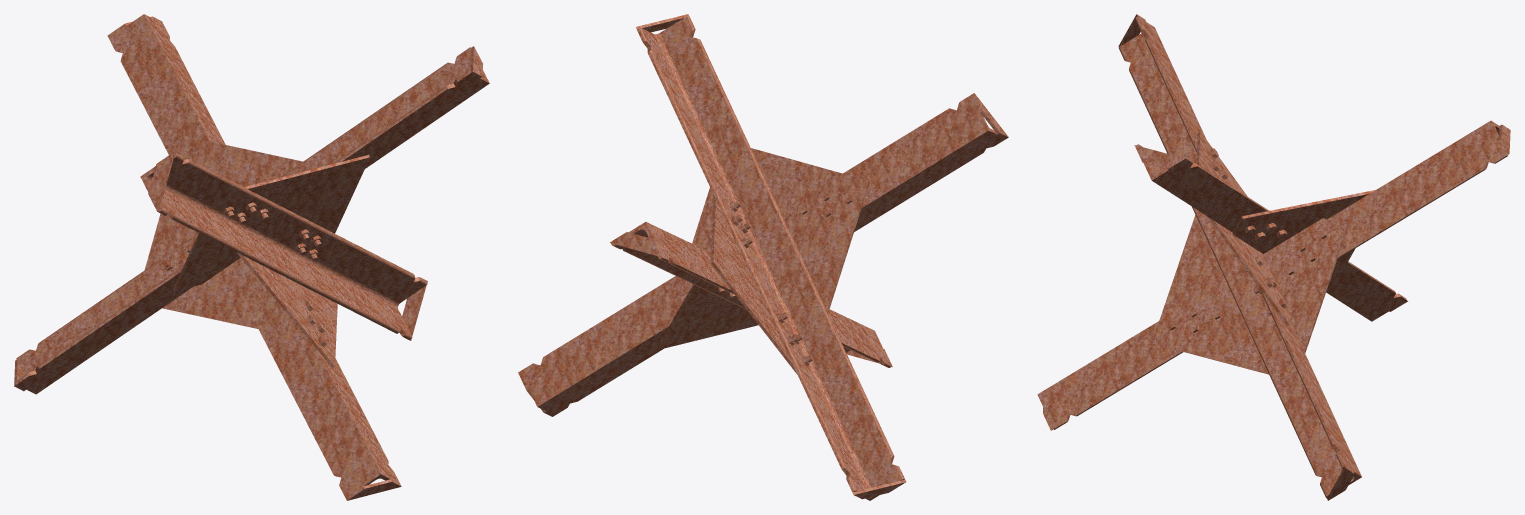
Rendered from hedgehog.glb.
The picture shows the model from 3 angles, left to right: view 1: azimuth 30°, elevation 25°; view 2: azimuth 150°, elevation 25°; view 3: azimuth 270°, elevation 25°; orthographic projection. The views are drawn at different scales.
Visible parts, largest first — view 1: m; view 2: m; view 3: m.
Part boxes in pixels (x1,y1,x2,y2): m: (14, 14, 489, 500); m: (518, 14, 1008, 500); m: (1037, 14, 1510, 500).
Size of the model in its own units: 1.8 by 1.5 by 1.89.
Materials: 1 (1 with a texture image).
